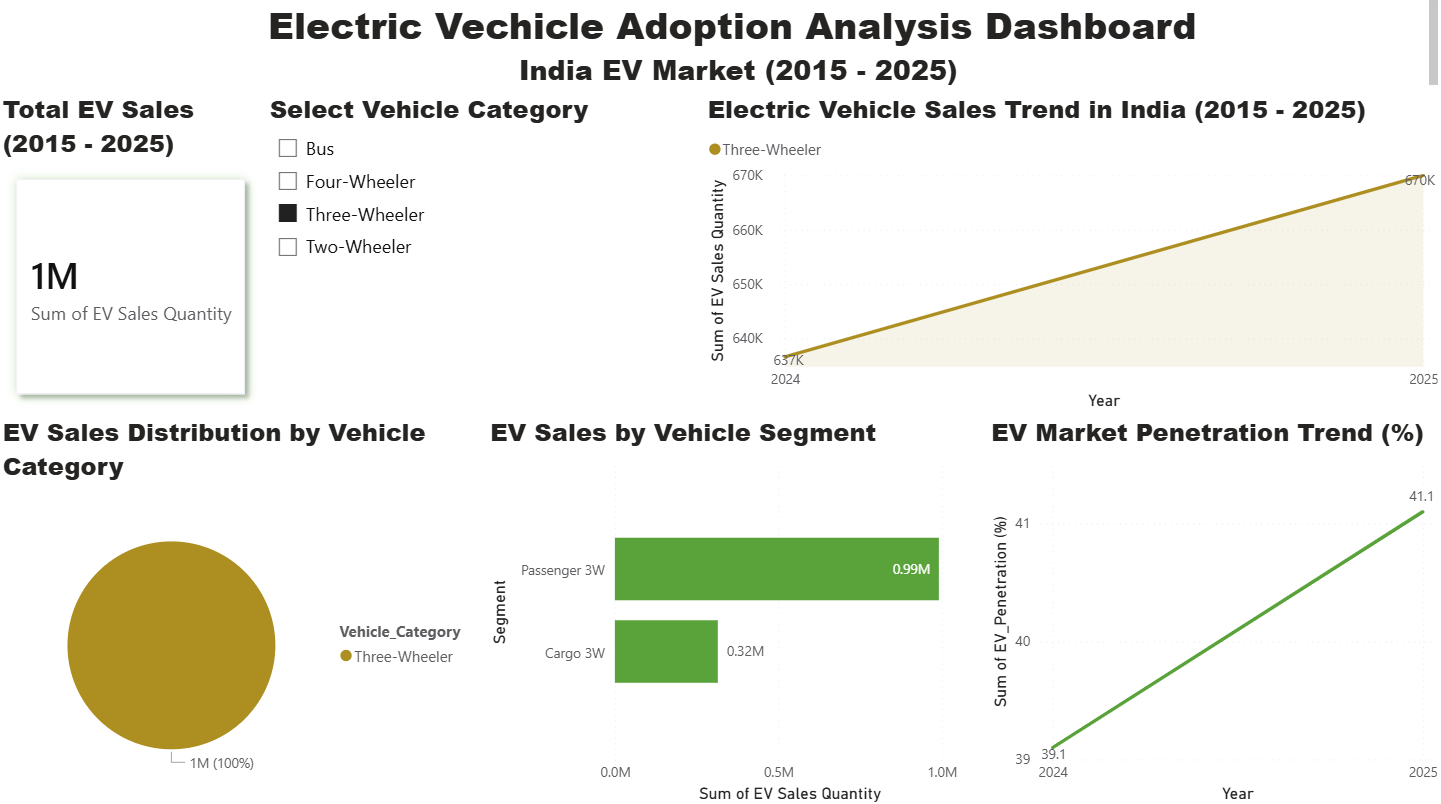

What the dashboard file says about the page in this screenshot:
{"tool":"powerbi","page":{"name":"Page 1","canvas":[1280,720],"ordinal":0},"visuals":[{"type":"lineChart","title":"Electric Vehicle Sales Trend in India (2015 - 2025)","fields":{"Category":["Indian_EV_Sales_2015_2025.Year"],"Series":["Indian_EV_Sales_2015_2025.Vehicle_Category"],"Y":["Sum(Indian_EV_Sales_2015_2025.EV Sales Quantity)"]},"box":[623.9,87.8,655.7,284.7],"z":0},{"type":"cardVisual","title":"Total EV Sales (2015 - 2025)","fields":{"Data":["Sum(Indian_EV_Sales_2015_2025.EV Sales Quantity)"]},"box":[0,87.8,236.2,284.7],"z":1000},{"type":"pieChart","title":"EV Sales Distribution by Vehicle Category","fields":{"Category":["Indian_EV_Sales_2015_2025.Vehicle_Category"],"Y":["Sum(Indian_EV_Sales_2015_2025.EV Sales Quantity)"]},"box":[0,372.3,430.9,347.7],"z":2000},{"type":"clusteredBarChart","title":"EV Sales by Vehicle Segment","fields":{"Category":["Indian_EV_Sales_2015_2025.Segment"],"Y":["Sum(Indian_EV_Sales_2015_2025.EV Sales Quantity)"]},"box":[430.9,372.3,444.1,347.7],"z":3000},{"type":"lineChart","title":"EV Market Penetration Trend (%)","fields":{"Category":["Indian_EV_Sales_2015_2025.Year"],"Y":["Sum(Indian_EV_Sales_2015_2025.EV_Penetration (%))"]},"box":[875,372.3,404.4,347.7],"z":4000},{"type":"slicer","title":"Select Vehicle Category","fields":{"Values":["Indian_EV_Sales_2015_2025.Vehicle_Category"]},"box":[236.2,87.8,387.6,284.7],"z":5000},{"type":"textbox","box":[0,0,1279.5,87.8],"z":6000}]}

Visuals, with their boxes in screenshot pixels (x1, y1, x2, y2), scaled from the page's 1280x720 canvas onto the 1441x804 screenshot:
"Electric Vehicle Sales Trend in India (2015 - 2025)" lineChart: 702, 98, 1440, 416
"Total EV Sales (2015 - 2025)" cardVisual: 0, 98, 266, 416
"EV Sales Distribution by Vehicle Category" pieChart: 0, 416, 485, 803
"EV Sales by Vehicle Segment" clusteredBarChart: 485, 416, 985, 803
"EV Market Penetration Trend (%)" lineChart: 985, 416, 1440, 803
"Select Vehicle Category" slicer: 266, 98, 702, 416
textbox: 0, 0, 1440, 98
